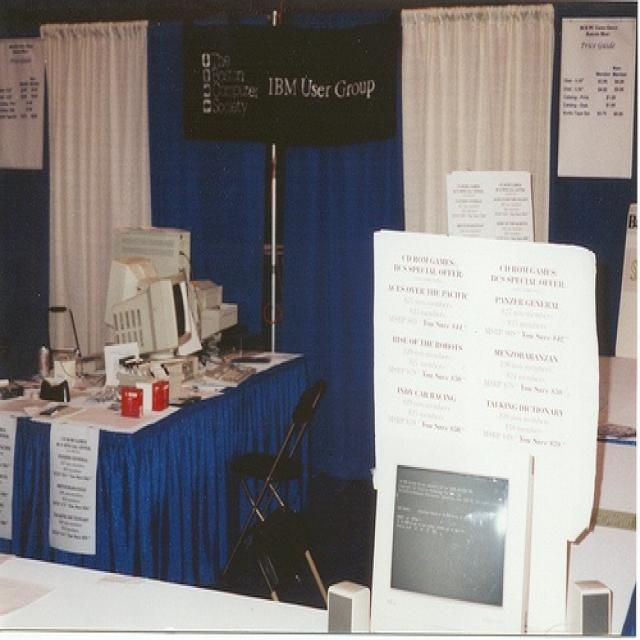chair: (220, 372, 330, 584)
tvmonitor: (371, 426, 535, 638), (110, 270, 196, 357)
